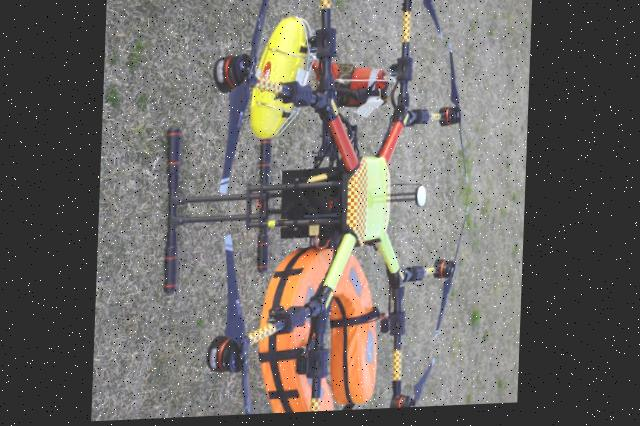drone: (95, 0, 519, 422)
